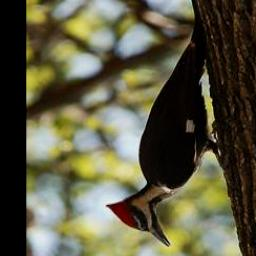Woodpecker: (106, 0, 239, 248)
